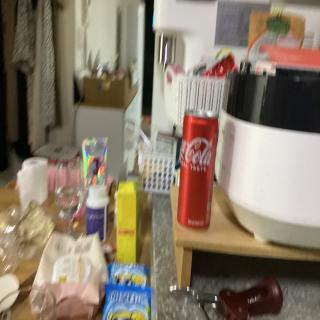cocacola: (171, 106, 220, 231)
